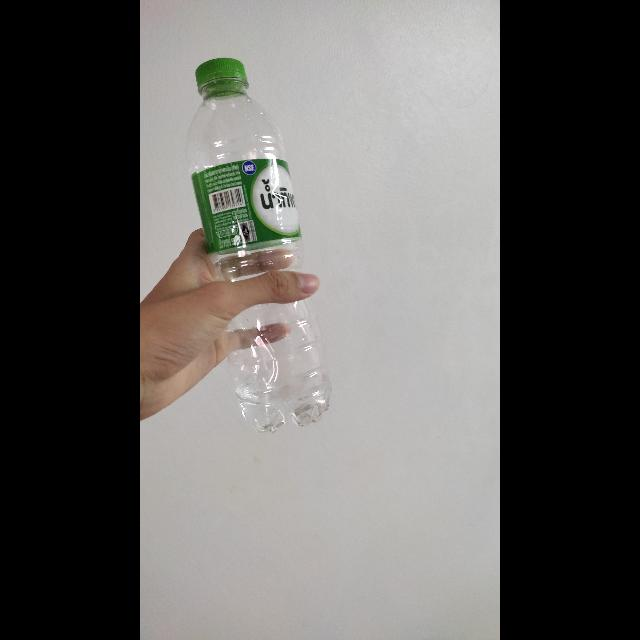plastic_bottle: (185, 49, 353, 447)
plastic_bottle_cap: (195, 55, 249, 97)
